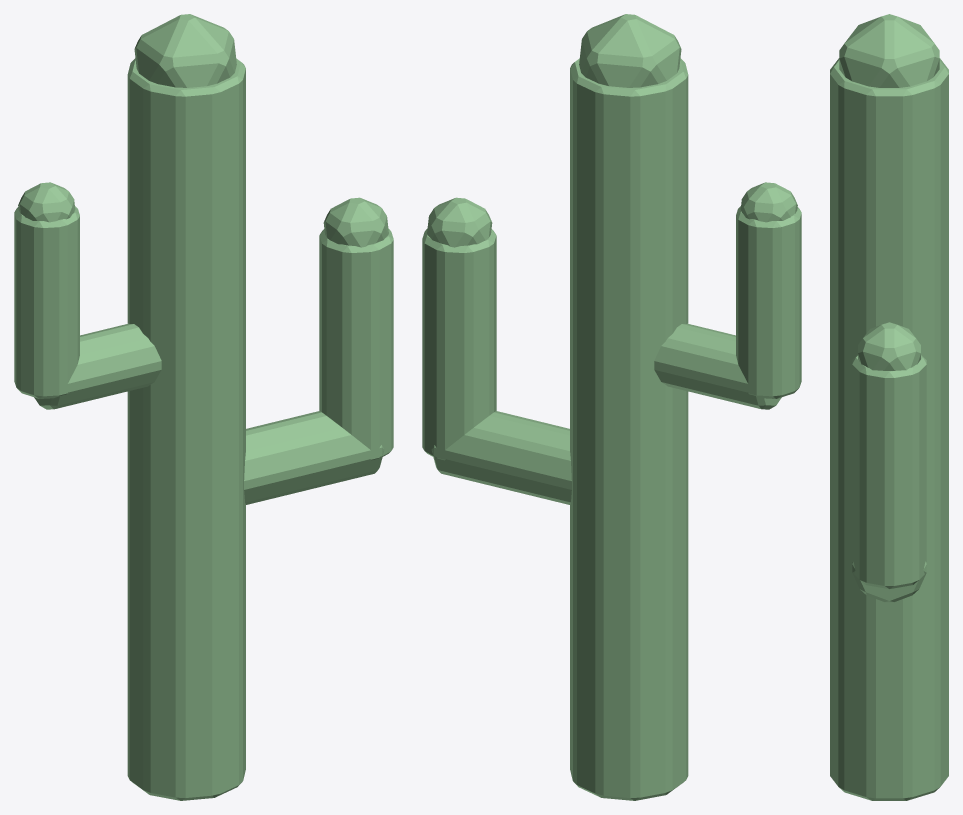
3 renders of one model, left to right at view 1: azimuth 30°, elevation 25°; view 2: azimuth 150°, elevation 25°; view 3: azimuth 270°, elevation 25°, orthographic.
Visible parts, largest first — view 1: Saguaro; view 2: Saguaro; view 3: Saguaro.
Boxes of the visible parts, <box> form: Saguaro: <box>14,14,393,800</box>; Saguaro: <box>422,14,801,800</box>; Saguaro: <box>830,14,948,800</box>.
Bounding box in the file's own units: 0.9808 × 1.93 × 0.2726.
